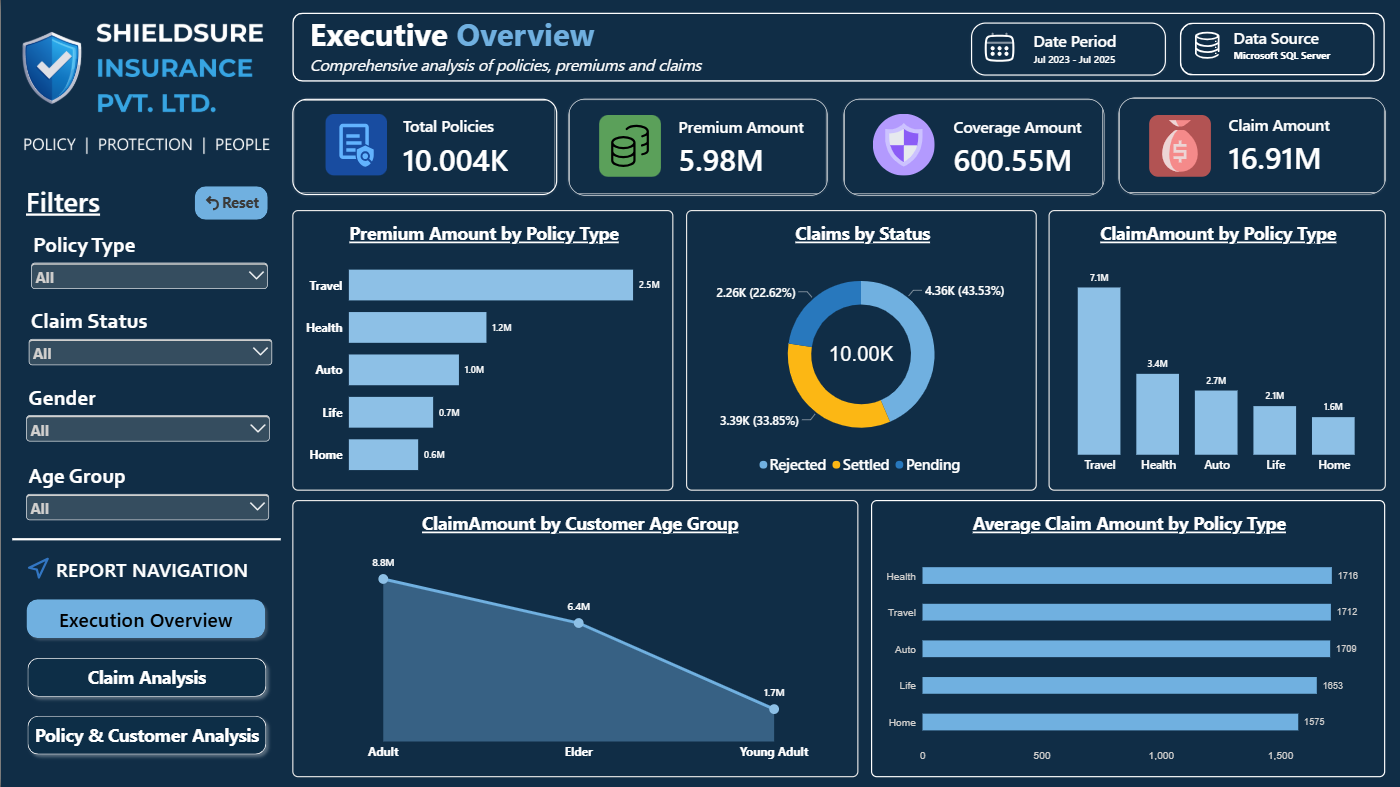

What the dashboard file says about the page in this screenshot:
{"tool":"powerbi","page":{"name":"Execution Overview   ","canvas":[1920,1080],"ordinal":0},"visuals":[{"type":"slicer","fields":{"Values":["InsuranceData.ClaimStatus"]},"box":[30,420,347.5,105],"z":0},{"type":"slicer","fields":{"Values":["InsuranceData.PolicyType"]},"box":[33.5,314.9,338.3,105.5],"z":1000},{"type":"cardVisual","fields":{"Data":["Sum(InsuranceData.PremiumAmount)"]},"box":[777.5,135,355,132.5],"z":2000},{"type":"cardVisual","fields":{"Data":["Sum(InsuranceData.CoverageAmount)"]},"box":[1155,135,357.5,132.5],"z":3000},{"type":"cardVisual","fields":{"Data":["Sum(InsuranceData.ClaimAmount)"]},"box":[1531.9,133,366.1,133],"z":4000},{"type":"shape","box":[400,17.5,1497.5,95],"z":5000},{"type":"donutChart","title":"Claims by Status","fields":{"Category":["InsuranceData.ClaimStatus"],"Y":["CountNonNull(InsuranceData.ClaimStatus)"]},"box":[938.9,287.8,481.1,384.4],"z":6000},{"type":"barChart","title":" Premium Amount by Policy Type","fields":{"Category":["InsuranceData.PolicyType"],"Y":["Sum(InsuranceData.PremiumAmount)"]},"box":[400,287.5,522.5,385],"z":7000},{"type":"lineChart","title":"ClaimAmount by Customer Age Group","fields":{"Category":["InsuranceData.Age Group"],"Y":["Sum(InsuranceData.ClaimAmount)"]},"box":[400,685,776,380],"z":8000},{"type":"clusteredBarChart","title":"Average Claim Amount by Policy Type","fields":{"Category":["InsuranceData.PolicyType"],"Y":["Claim Measure.Average Claim Amount"]},"box":[1192.5,685,705,380],"z":9000},{"type":"columnChart","title":"ClaimAmount by Policy Type","fields":{"Category":["InsuranceData.PolicyType"],"Y":["Sum(InsuranceData.ClaimAmount)"]},"box":[1435.6,287.8,462.2,384.4],"z":10000},{"type":"slicer","fields":{"Values":["InsuranceData.Age Group"]},"box":[28,632,346.7,107.2],"z":11000},{"type":"slicer","fields":{"Values":["InsuranceData.Gender"]},"box":[27.5,525,347.5,105],"z":12000},{"type":"textbox","box":[400,760,214,150],"z":13000},{"type":"textbox","box":[400,930,174,94],"z":14000},{"type":"textbox","box":[34,250,126,53],"z":15000},{"type":"cardVisual","fields":{"Data":["CountNonNull(InsuranceData.PolicyNumber)"]},"box":[400,135.6,363.3,132.2],"z":16000},{"type":"image","box":[16,18,368,198],"z":17000},{"type":"textbox","box":[422.5,17.5,712.5,95],"z":18000},{"type":"actionButton","box":[265,255,100,46],"z":19000},{"type":"image","box":[443.3,156.7,86.7,85],"z":20000},{"type":"image","box":[818.3,158.3,86.7,85],"z":21000},{"type":"image","box":[1193.3,156.7,86.7,85],"z":22000},{"type":"image","box":[1573.3,158.3,86.7,85],"z":23000},{"type":"shape","box":[15.9,715.5,368.2,45.9],"z":24000},{"type":"textbox","box":[75.2,763.1,325.7,57.8],"z":25000},{"type":"image","box":[30.8,763.1,41.3,32.7],"z":26000},{"type":"pageNavigator","box":[26.7,813.3,345,231.7],"z":27000},{"type":"cardVisual","fields":{"Data":["InsuranceData.Date Period"]},"box":[1329.1,30,267.3,72.7],"z":28000},{"type":"shape","box":[1615.5,30,267.3,72.7],"z":29000},{"type":"image","box":[1335,35,68.3,60],"z":30000},{"type":"image","box":[1636.7,41.3,40,43.3],"z":31000},{"type":"textbox","box":[1688.5,37.1,177.5,53.3],"z":31001}]}

Visuals, with their boxes in screenshot pixels (x1, y1, x2, y2), scaled from the page's 1920x1080 canvas onto the 1400x787 screenshot:
slicer - InsuranceData.ClaimStatus: (22,306,275,383)
slicer - InsuranceData.PolicyType: (24,229,271,306)
cardVisual - Sum(InsuranceData.PremiumAmount): (567,98,826,195)
cardVisual - Sum(InsuranceData.CoverageAmount): (842,98,1103,195)
cardVisual - Sum(InsuranceData.ClaimAmount): (1117,97,1384,194)
shape: (292,13,1384,82)
"Claims by Status" donutChart: (685,210,1035,490)
" Premium Amount by Policy Type" barChart: (292,210,673,490)
"ClaimAmount by Customer Age Group" lineChart: (292,499,858,776)
"Average Claim Amount by Policy Type" clusteredBarChart: (870,499,1384,776)
"ClaimAmount by Policy Type" columnChart: (1047,210,1384,490)
slicer - InsuranceData.Age Group: (20,461,273,539)
slicer - InsuranceData.Gender: (20,383,273,459)
textbox: (292,554,448,663)
textbox: (292,678,419,746)
textbox: (25,182,117,221)
cardVisual - CountNonNull(InsuranceData.PolicyNumber): (292,99,557,195)
image: (12,13,280,157)
textbox: (308,13,828,82)
actionButton: (193,186,266,219)
image: (323,114,386,176)
image: (597,115,660,177)
image: (870,114,933,176)
image: (1147,115,1210,177)
shape: (12,521,280,555)
textbox: (55,556,292,598)
image: (22,556,53,580)
pageNavigator: (19,593,271,761)
cardVisual - InsuranceData.Date Period: (969,22,1164,75)
shape: (1178,22,1373,75)
image: (973,26,1023,69)
image: (1193,30,1223,62)
textbox: (1231,27,1361,66)
